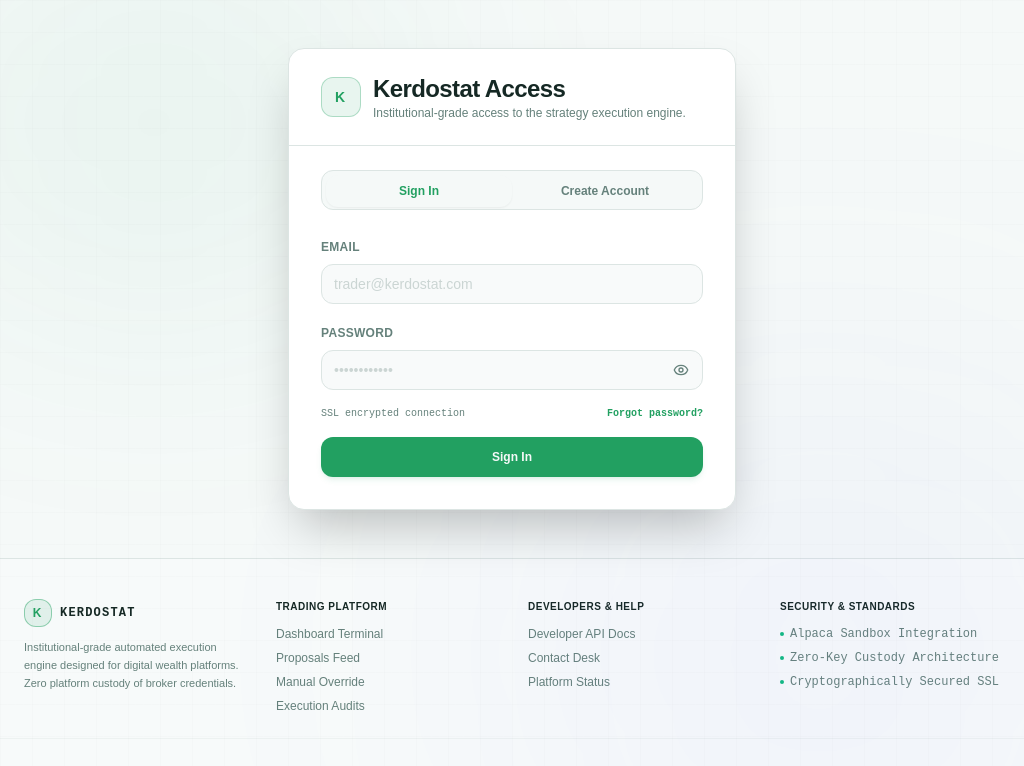
AuthCard Component Form Validation › should render error message on registration failure
The image size is (1024, 766).
Click the tab "Create Account". click: click(605, 191)
box: [512, 175, 698, 207]
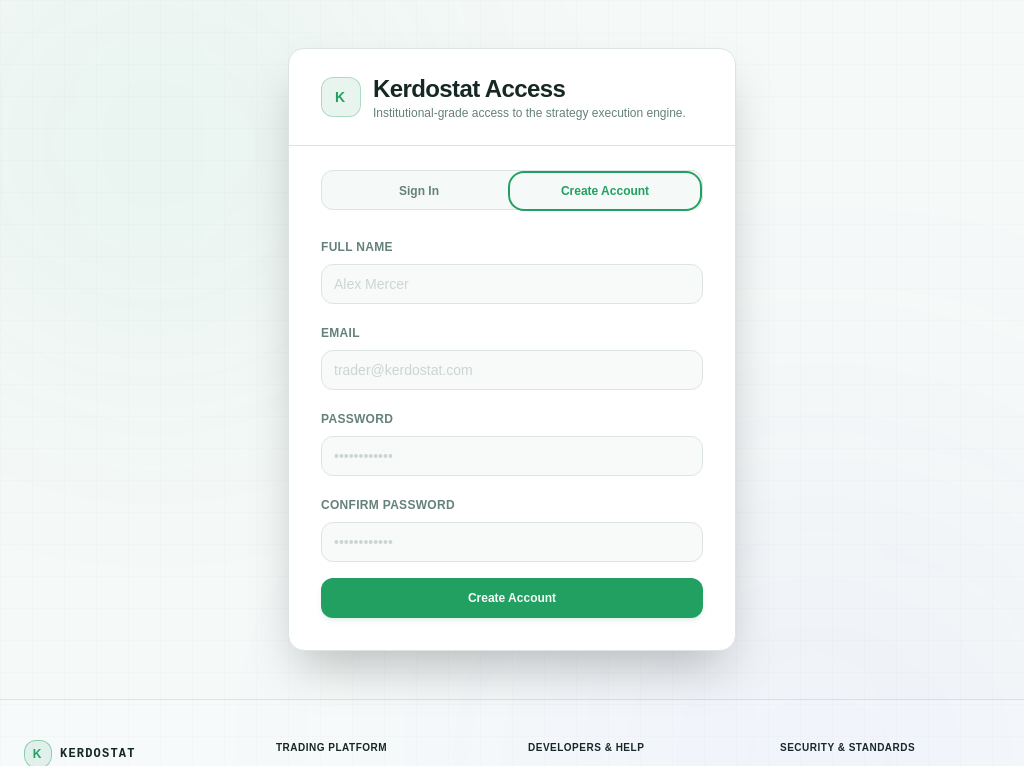
Type "Jane Doe" into the field labelled "Full Name". click: (512, 284)
box: [321, 264, 703, 304]
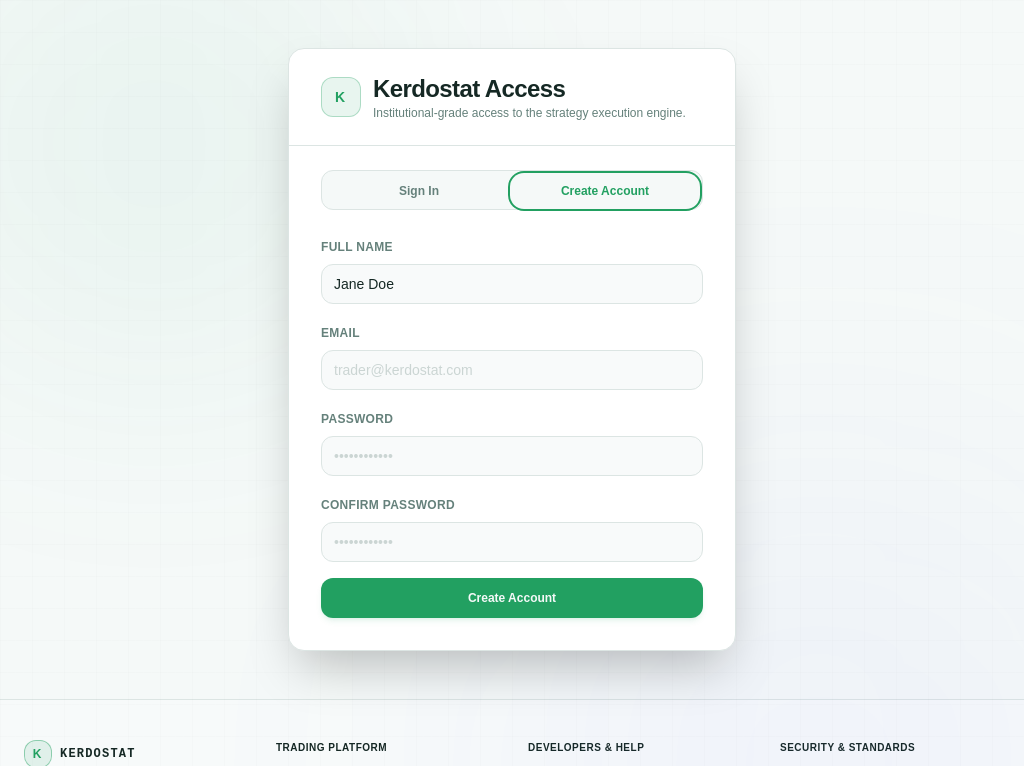
Type "jane@kerdostat.com" into the field labelled "Email". click: (512, 370)
box: [321, 350, 703, 390]
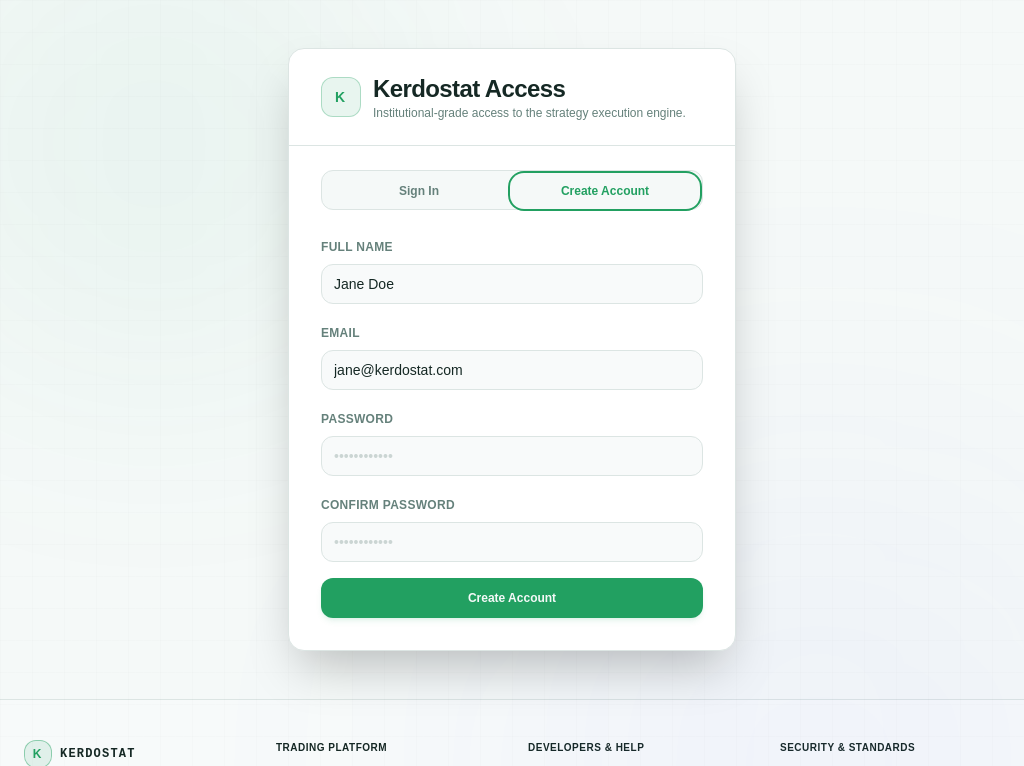
Type "password123" into the password field labelled "Password". click: (512, 456)
box: [321, 436, 703, 476]
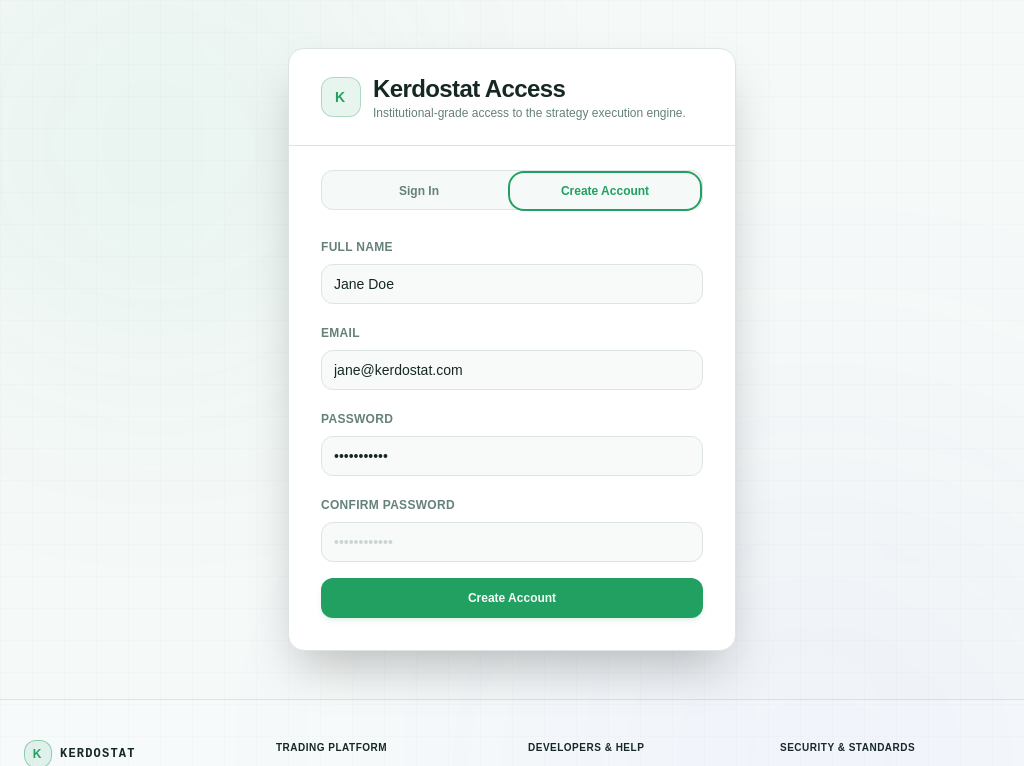
Type "password123" into the password field labelled "Confirm Password". click: (512, 542)
box: [321, 522, 703, 562]
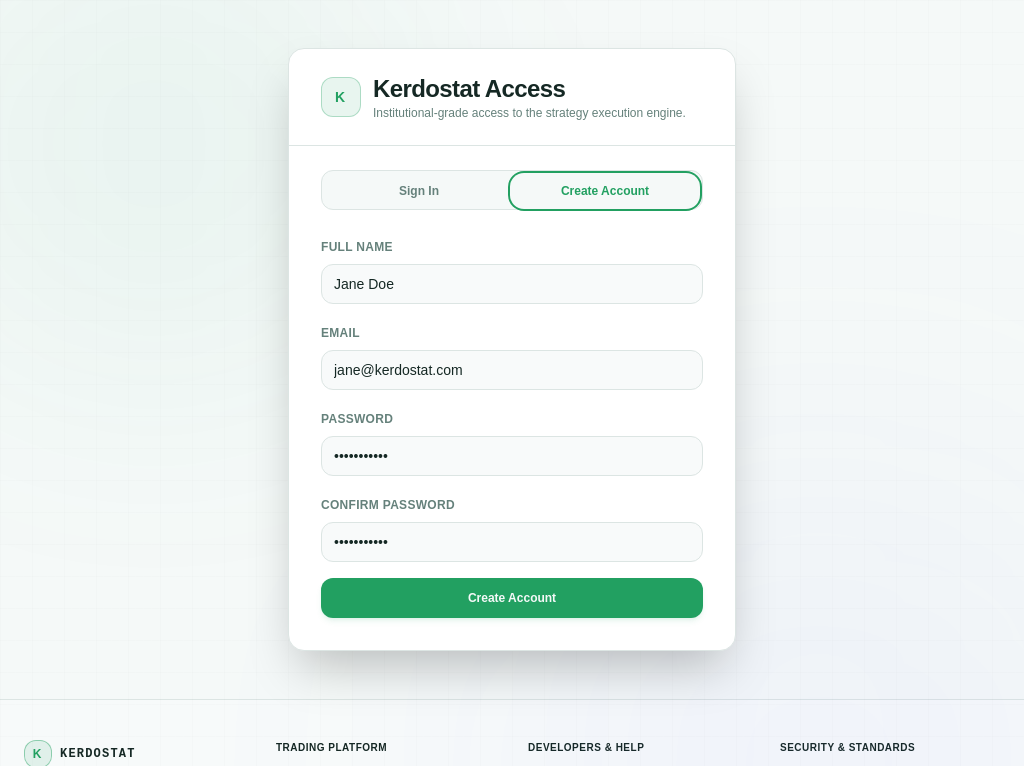
Click the button "Create Account". click: click(512, 598)
box: [321, 578, 703, 618]
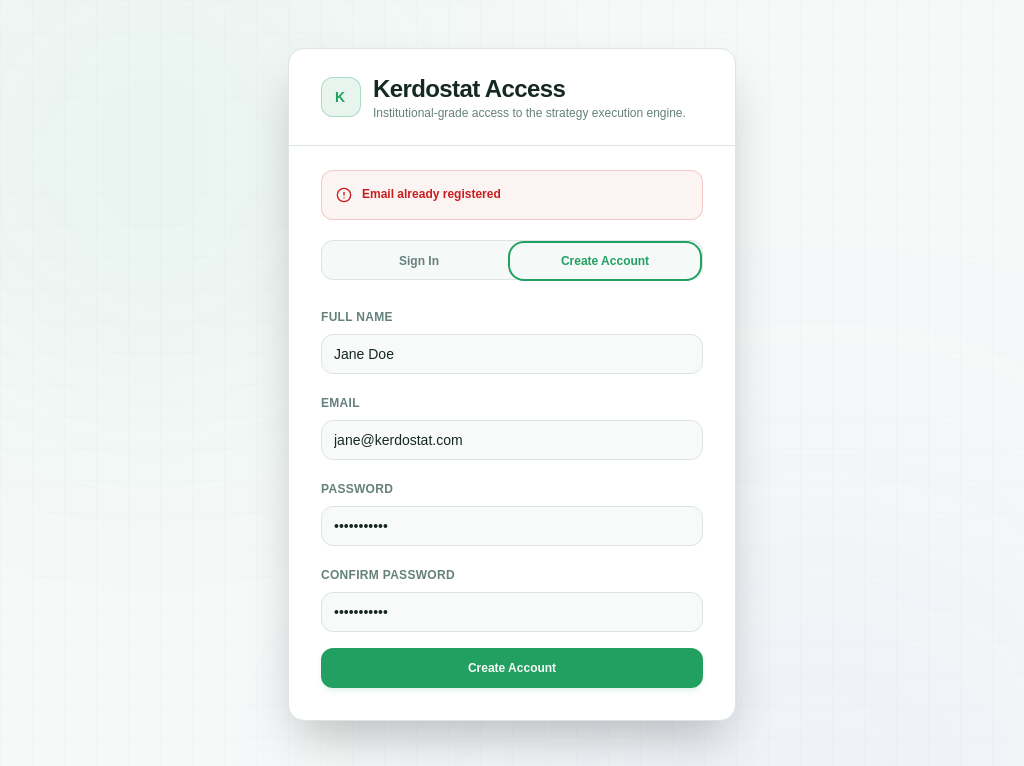
Expected: the text "Email already registered" is shown, [362, 185, 501, 204]
